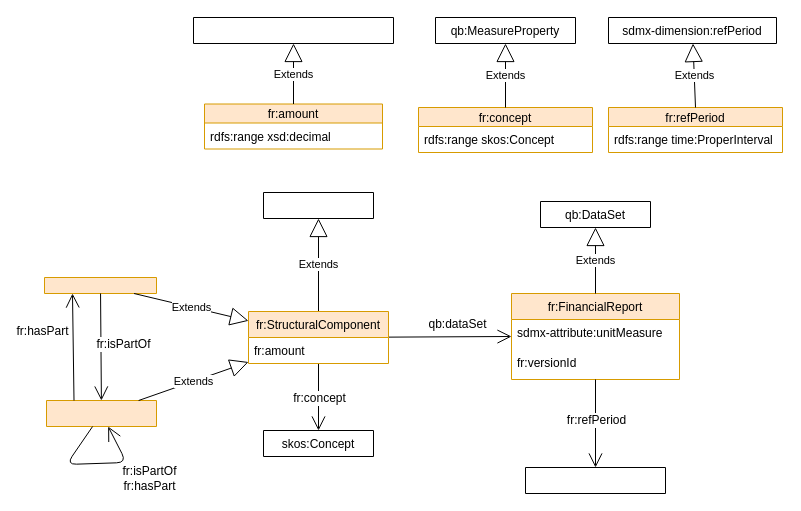
Some shapes in this 801 by 511 pixel diagram are drawn without their labels. Each missing label, with the centre of its shape:
"fr:Component" goes at point 101,413.
"fr:Fact" goes at point 100,285.
"qb:Observation" goes at point 318,205.
"sdmx-measure:obsValue" goes at point 293,30.
"time:ProperInterval" goes at point 595,480.
